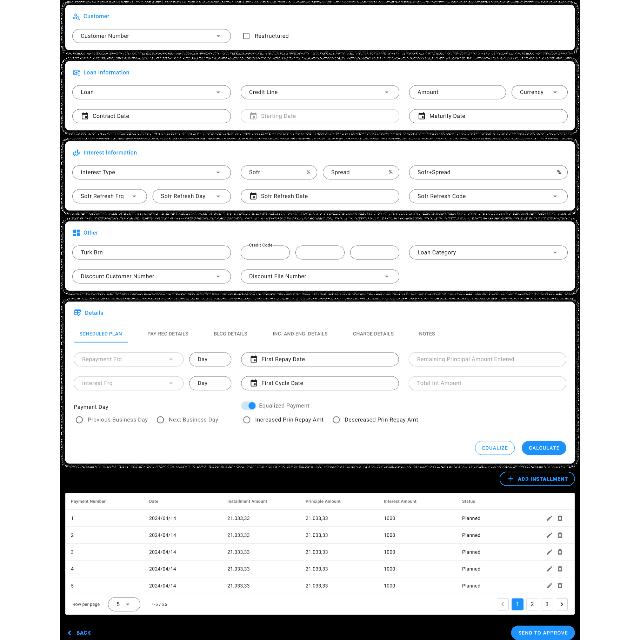QLabel: (83, 148, 139, 158), (88, 416, 148, 424), (345, 417, 419, 423), (254, 417, 324, 423), (518, 629, 570, 637), (84, 68, 130, 76), (518, 476, 570, 482), (169, 417, 219, 423), (260, 403, 310, 409), (254, 32, 290, 40), (78, 331, 122, 337), (528, 444, 560, 452), (148, 330, 188, 336), (82, 12, 111, 20), (272, 332, 328, 336), (84, 308, 106, 318), (73, 404, 109, 410), (212, 330, 248, 336), (83, 228, 101, 238), (482, 444, 510, 450), (353, 332, 395, 336), (75, 630, 91, 636), (419, 332, 436, 336)
VBtn: (501, 472, 575, 486), (512, 626, 576, 640), (475, 440, 515, 456), (523, 441, 567, 455)
VCard: (64, 302, 576, 463), (64, 142, 576, 212), (66, 61, 576, 130), (64, 222, 576, 290), (65, 4, 575, 50)
VCheckbox: (242, 32, 252, 40)
VCombobox: (72, 165, 232, 181), (409, 244, 569, 260), (240, 268, 400, 284), (409, 188, 568, 204), (72, 28, 230, 44), (73, 84, 231, 100), (241, 84, 399, 100), (73, 268, 231, 284), (73, 377, 183, 391), (74, 352, 184, 366), (153, 188, 231, 204), (73, 188, 147, 204), (513, 85, 569, 99)
VDataTable: (66, 492, 576, 616)
VIcon: (71, 12, 81, 22), (70, 147, 80, 157), (71, 228, 81, 238), (72, 308, 82, 318), (70, 68, 82, 76), (508, 475, 514, 483), (67, 630, 73, 636)
VInlineDatepicker: (242, 109, 400, 123), (410, 109, 568, 123), (242, 353, 400, 367), (241, 376, 399, 390), (240, 190, 400, 202), (73, 110, 231, 122)
VRadio: (156, 416, 164, 424), (243, 416, 250, 424), (334, 416, 341, 424), (76, 416, 82, 424)
VSwitch: (242, 401, 256, 411)
VTabs: (66, 326, 572, 462)
VTextField: (408, 376, 568, 392), (410, 164, 568, 180), (72, 246, 232, 260), (409, 352, 566, 366), (410, 85, 506, 98), (242, 164, 318, 180), (324, 164, 400, 180), (240, 243, 290, 260), (296, 244, 344, 260), (350, 245, 400, 259), (189, 376, 231, 390), (190, 352, 230, 366)
